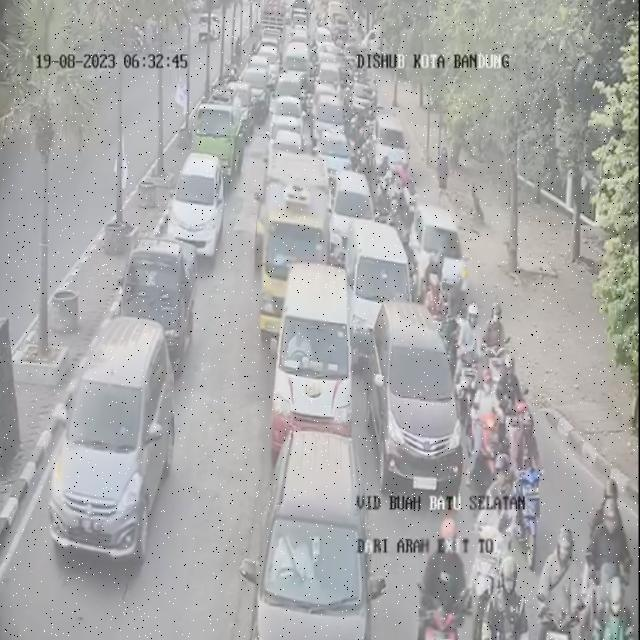cars: (48, 313, 174, 562), (248, 430, 381, 637), (364, 294, 456, 502), (268, 263, 352, 445), (123, 235, 197, 369), (348, 215, 412, 346), (168, 153, 223, 265), (414, 201, 470, 308), (331, 168, 375, 264), (322, 126, 354, 191), (376, 112, 408, 173), (313, 89, 342, 150), (271, 94, 305, 142), (244, 67, 270, 114), (232, 82, 258, 126), (283, 44, 310, 86), (275, 73, 302, 110), (321, 58, 343, 100), (252, 53, 274, 80)
motorcycle: (590, 479, 636, 640), (470, 455, 516, 615), (419, 511, 475, 639), (538, 524, 592, 640), (514, 401, 546, 531), (472, 358, 505, 474), (483, 551, 524, 640), (499, 350, 528, 454), (481, 300, 506, 410), (455, 299, 480, 387), (426, 263, 448, 335), (392, 175, 414, 234)
truck: (257, 145, 329, 326), (191, 96, 245, 188)
